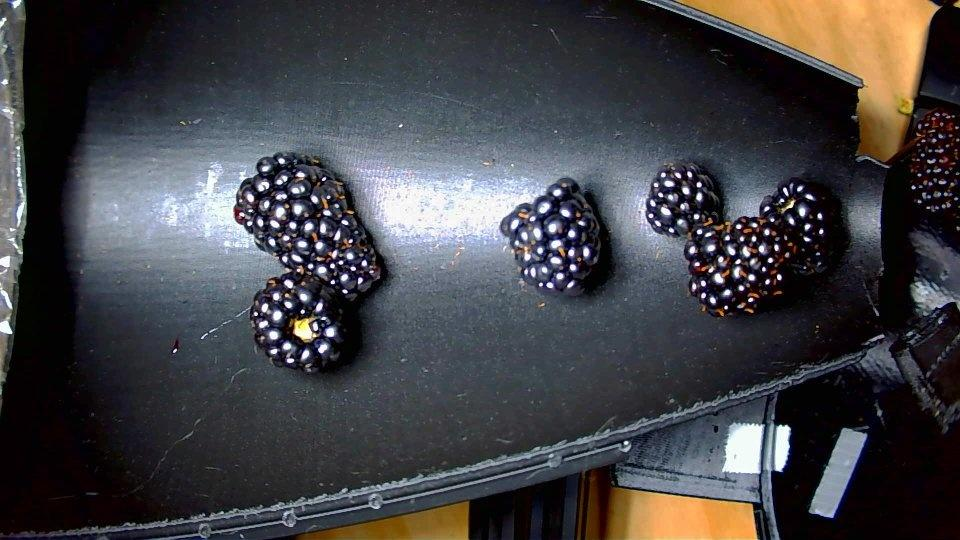berry: (235, 152, 381, 299), (500, 178, 601, 295), (684, 216, 795, 316), (249, 272, 346, 372), (760, 178, 843, 273), (643, 162, 721, 236), (908, 108, 959, 220)
